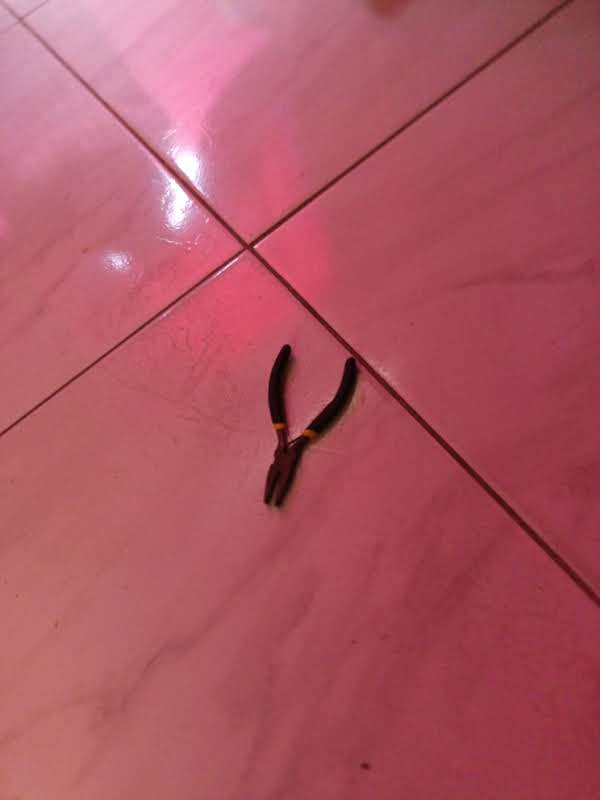Pinzas: (264, 344, 358, 504)
